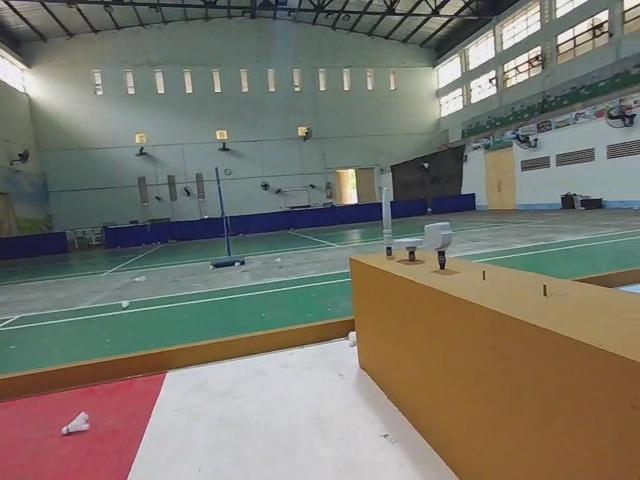Fist: (425, 220, 452, 273)
Hand: (394, 235, 425, 262)
Sph: (378, 187, 395, 259)
